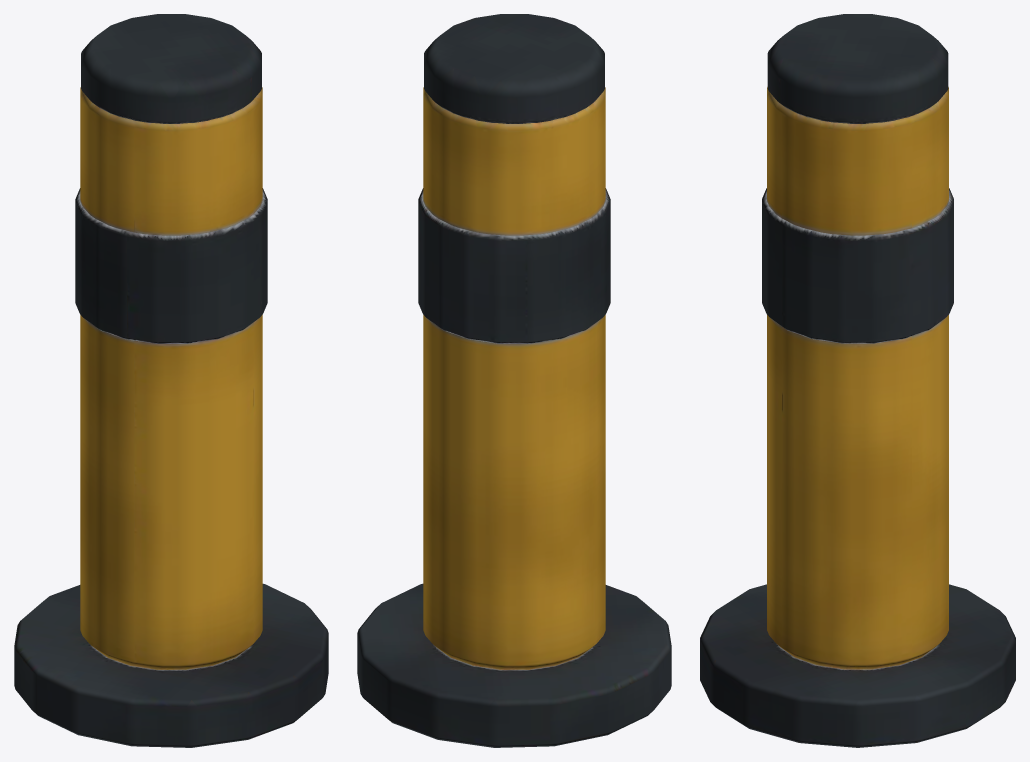
Rendered from bollard_heavy.glb.
3 views of the same model, side by side, from view 1: azimuth 30°, elevation 25°; view 2: azimuth 150°, elevation 25°; view 3: azimuth 270°, elevation 25° (orthographic).
Visible parts, largest first — view 1: BollardHeavy; view 2: BollardHeavy; view 3: BollardHeavy.
Part boxes in pixels (x1,y1,x2,y2): BollardHeavy: (14, 14, 328, 747); BollardHeavy: (357, 14, 671, 747); BollardHeavy: (700, 14, 1015, 747).
Bounding box in the file's own units: 0.4769 × 1.06 × 0.4769.
1 material, 1 textured.
